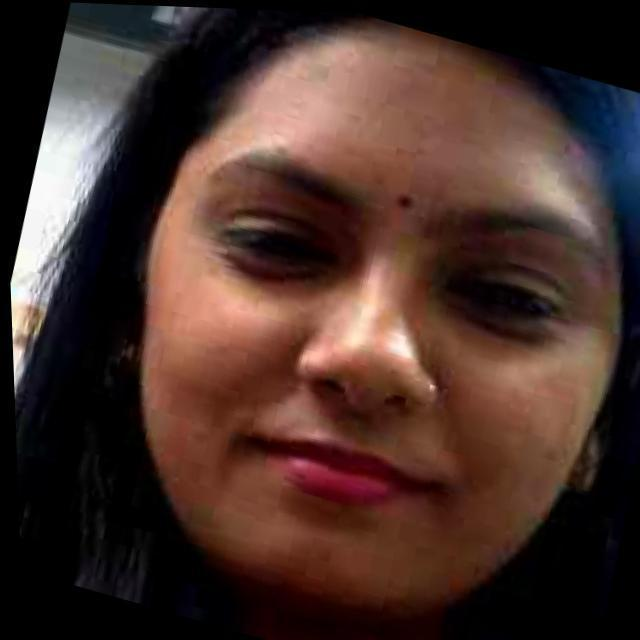puffy_eyes: (443, 286, 567, 339), (221, 246, 326, 279)
